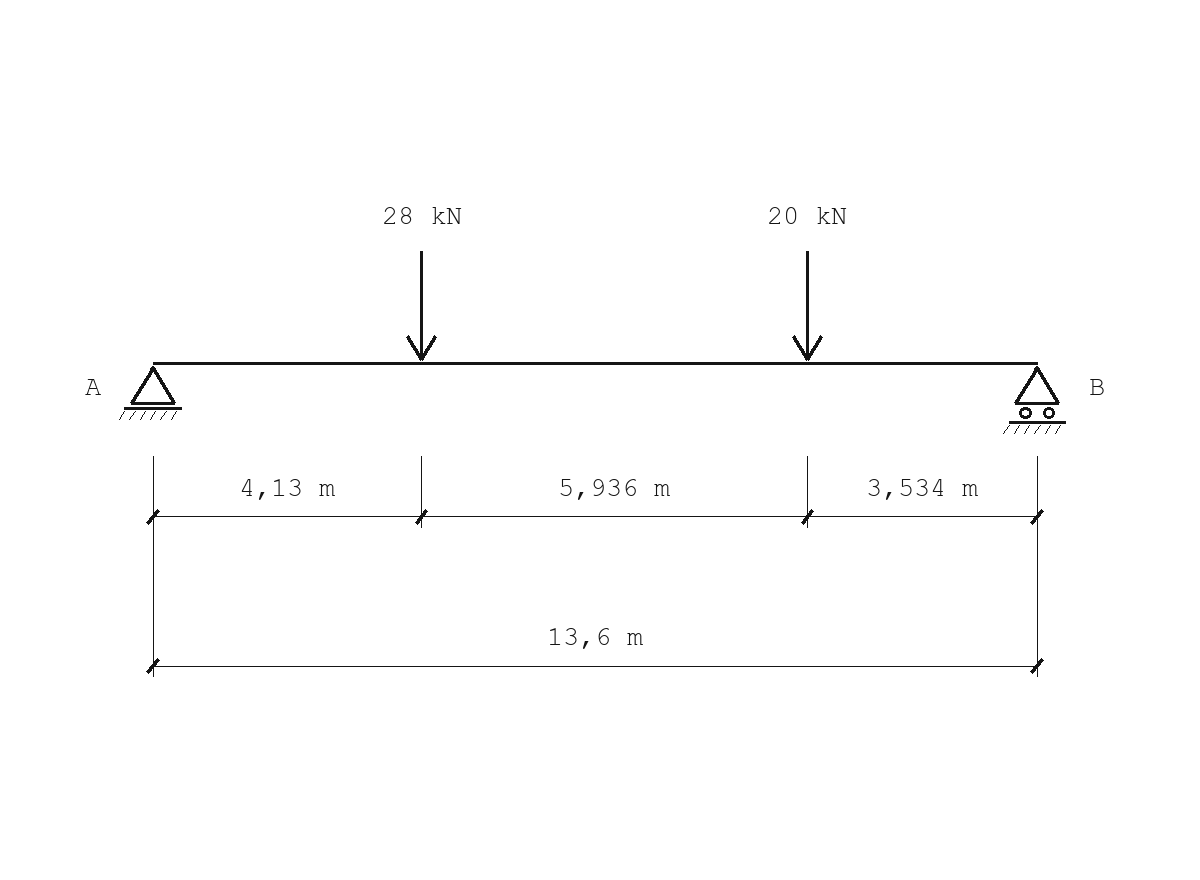pin_support: (119, 366, 182, 420)
point_load: (406, 251, 437, 361), (792, 251, 823, 361)
roller_support: (1003, 366, 1066, 434)
